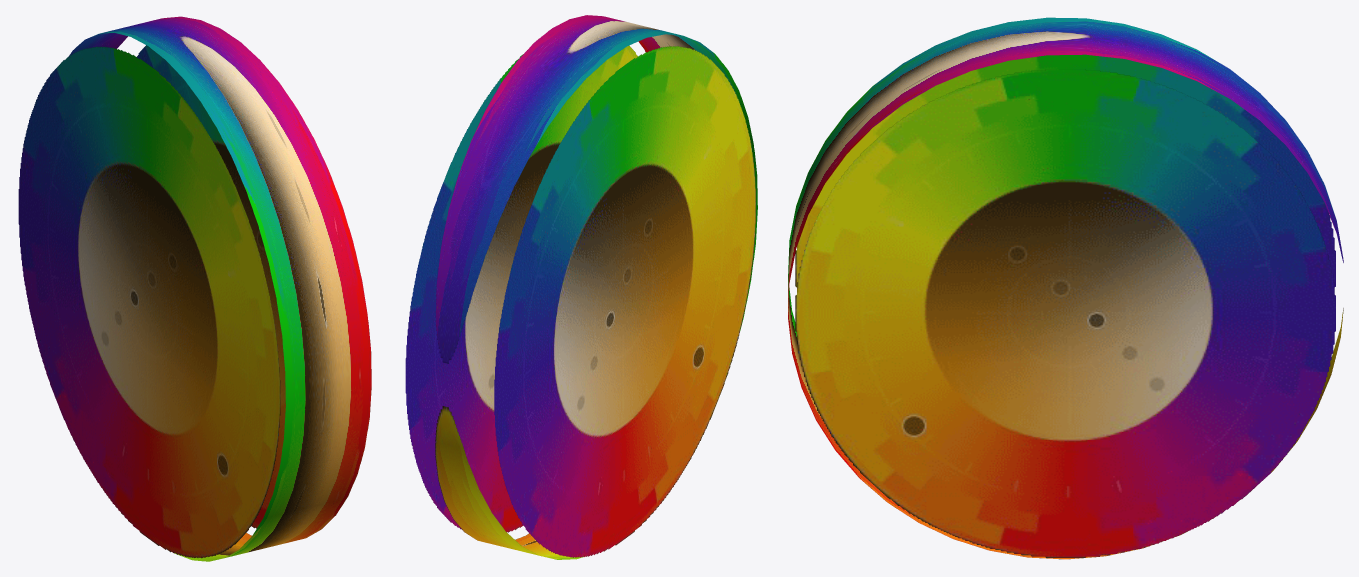
File: rullete_color.FBX
The picture shows the model from 3 angles, left to right: view 1: azimuth 30°, elevation 25°; view 2: azimuth 150°, elevation 25°; view 3: azimuth 270°, elevation 25°; orthographic projection. The views are drawn at different scales.
Parts seen in each view (by area): view 1: Cylinder001; view 2: Cylinder001; view 3: Cylinder001.
Boxes of the visible parts, left/top/right/bottom form: Cylinder001: left=18, top=16, right=371, bottom=561; Cylinder001: left=405, top=15, right=757, bottom=559; Cylinder001: left=788, top=17, right=1343, bottom=559.
Bounding box in the file's own units: 0.2276 × 1.2 × 1.2.
